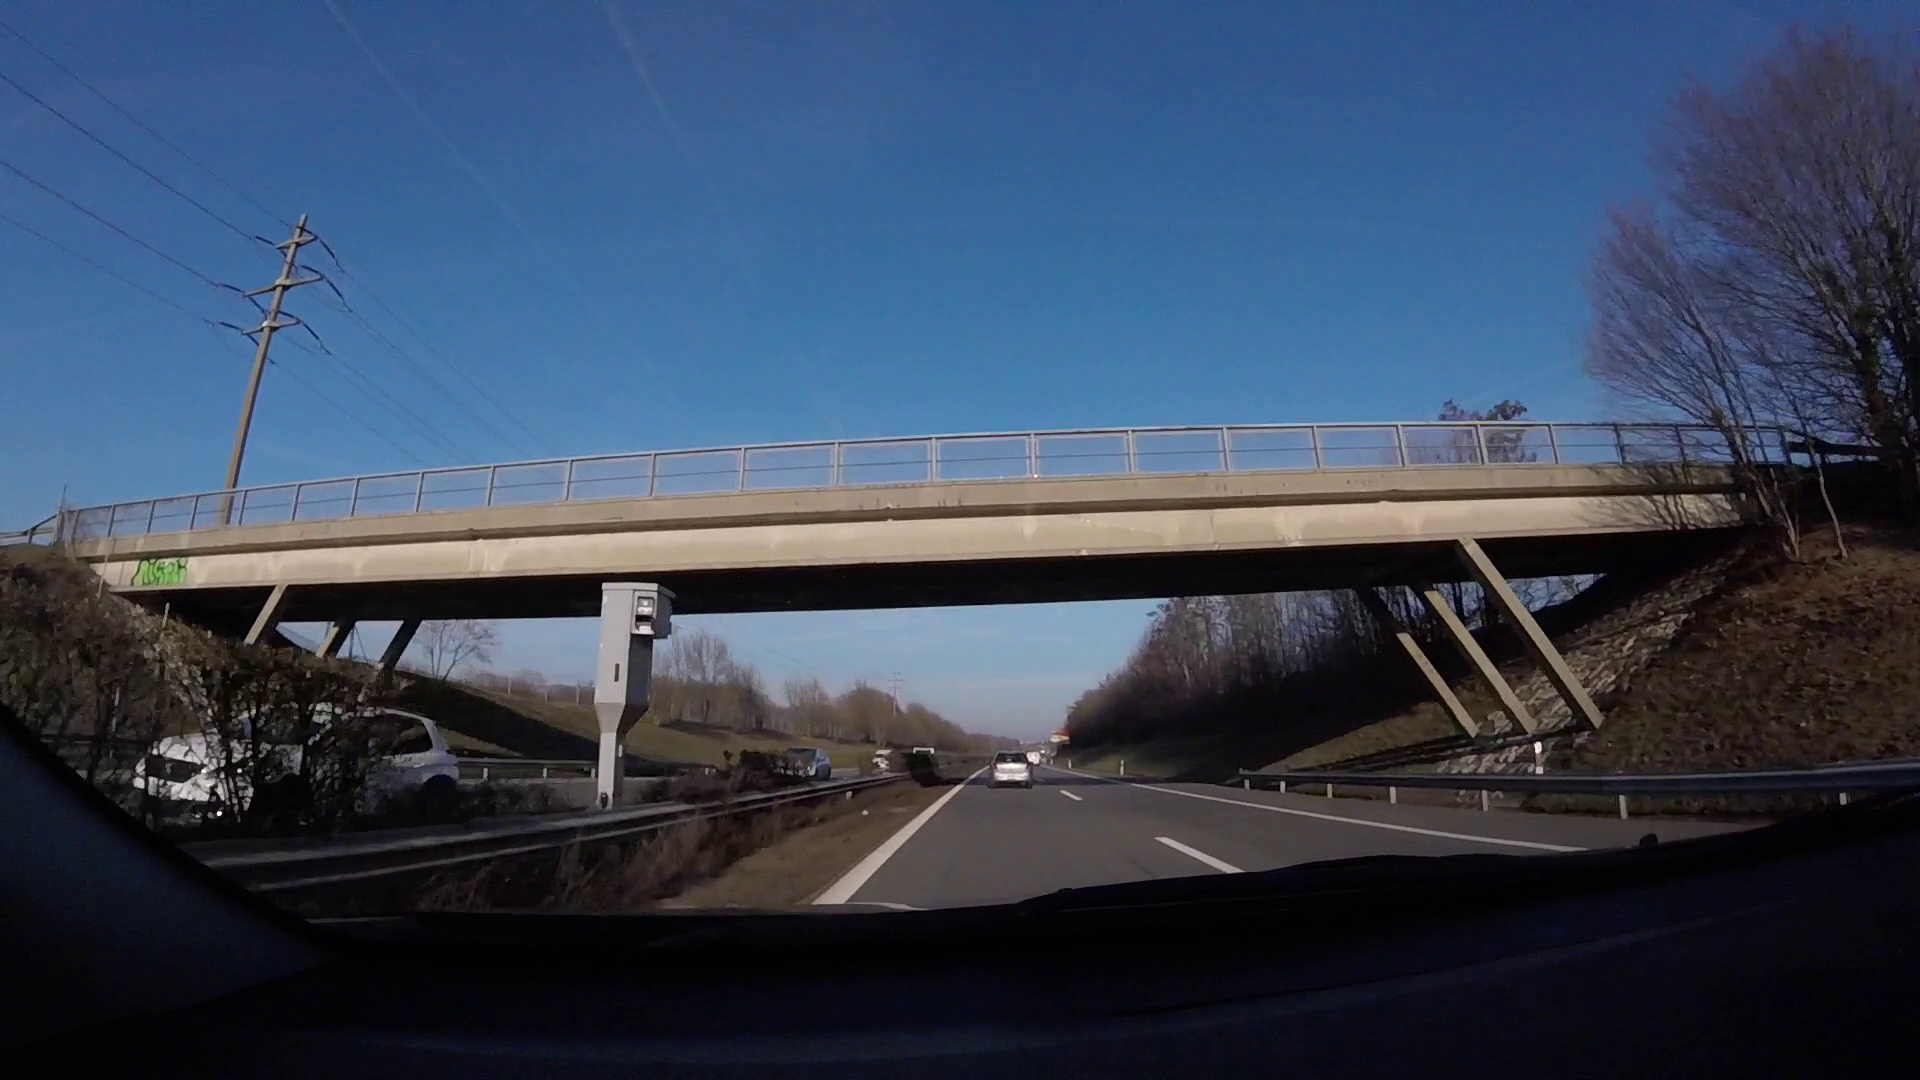radar: (593, 580, 676, 812)
